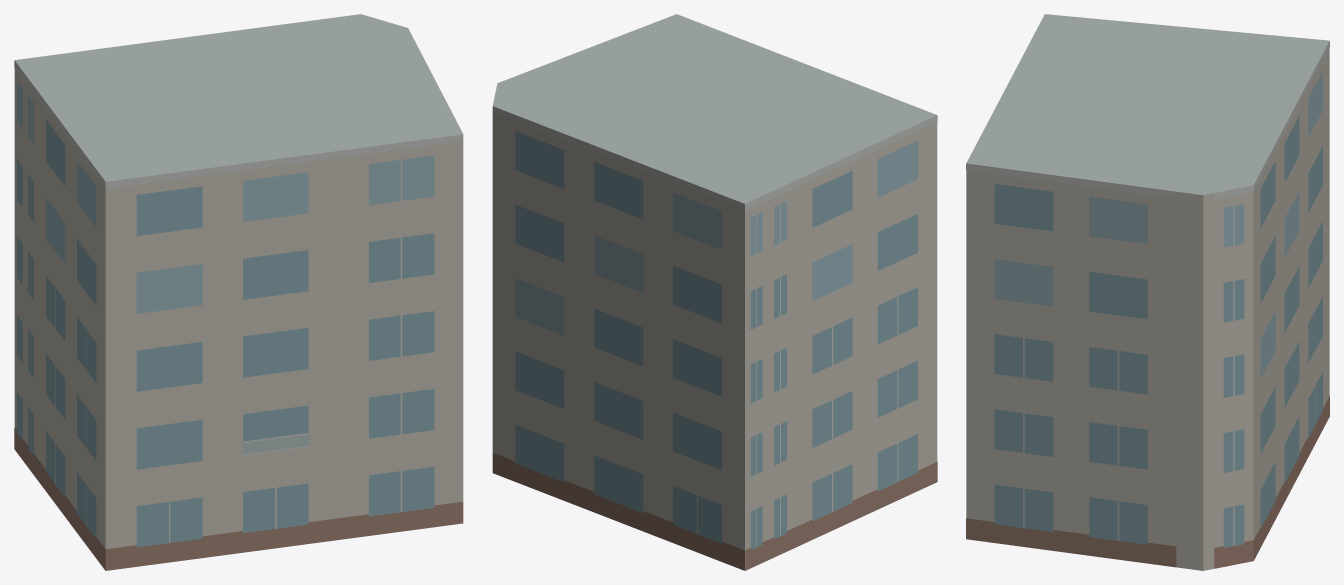
File: survey-upis-32880038.glb
The picture shows the model from 3 angles, left to right: view 1: azimuth 30°, elevation 25°; view 2: azimuth 150°, elevation 25°; view 3: azimuth 270°, elevation 25°; orthographic projection. The views are drawn at different scales.
Parts seen in each view (by area): view 1: survey-upis-32880038.tmp; view 2: survey-upis-32880038.tmp; view 3: survey-upis-32880038.tmp.
Boxes of the visible parts, bbox=[...] form: survey-upis-32880038.tmp: bbox=[14, 14, 463, 570]; survey-upis-32880038.tmp: bbox=[492, 14, 937, 570]; survey-upis-32880038.tmp: bbox=[966, 14, 1329, 570].
Bounding box in the file's own units: 13.71 × 13.25 × 11.63.
